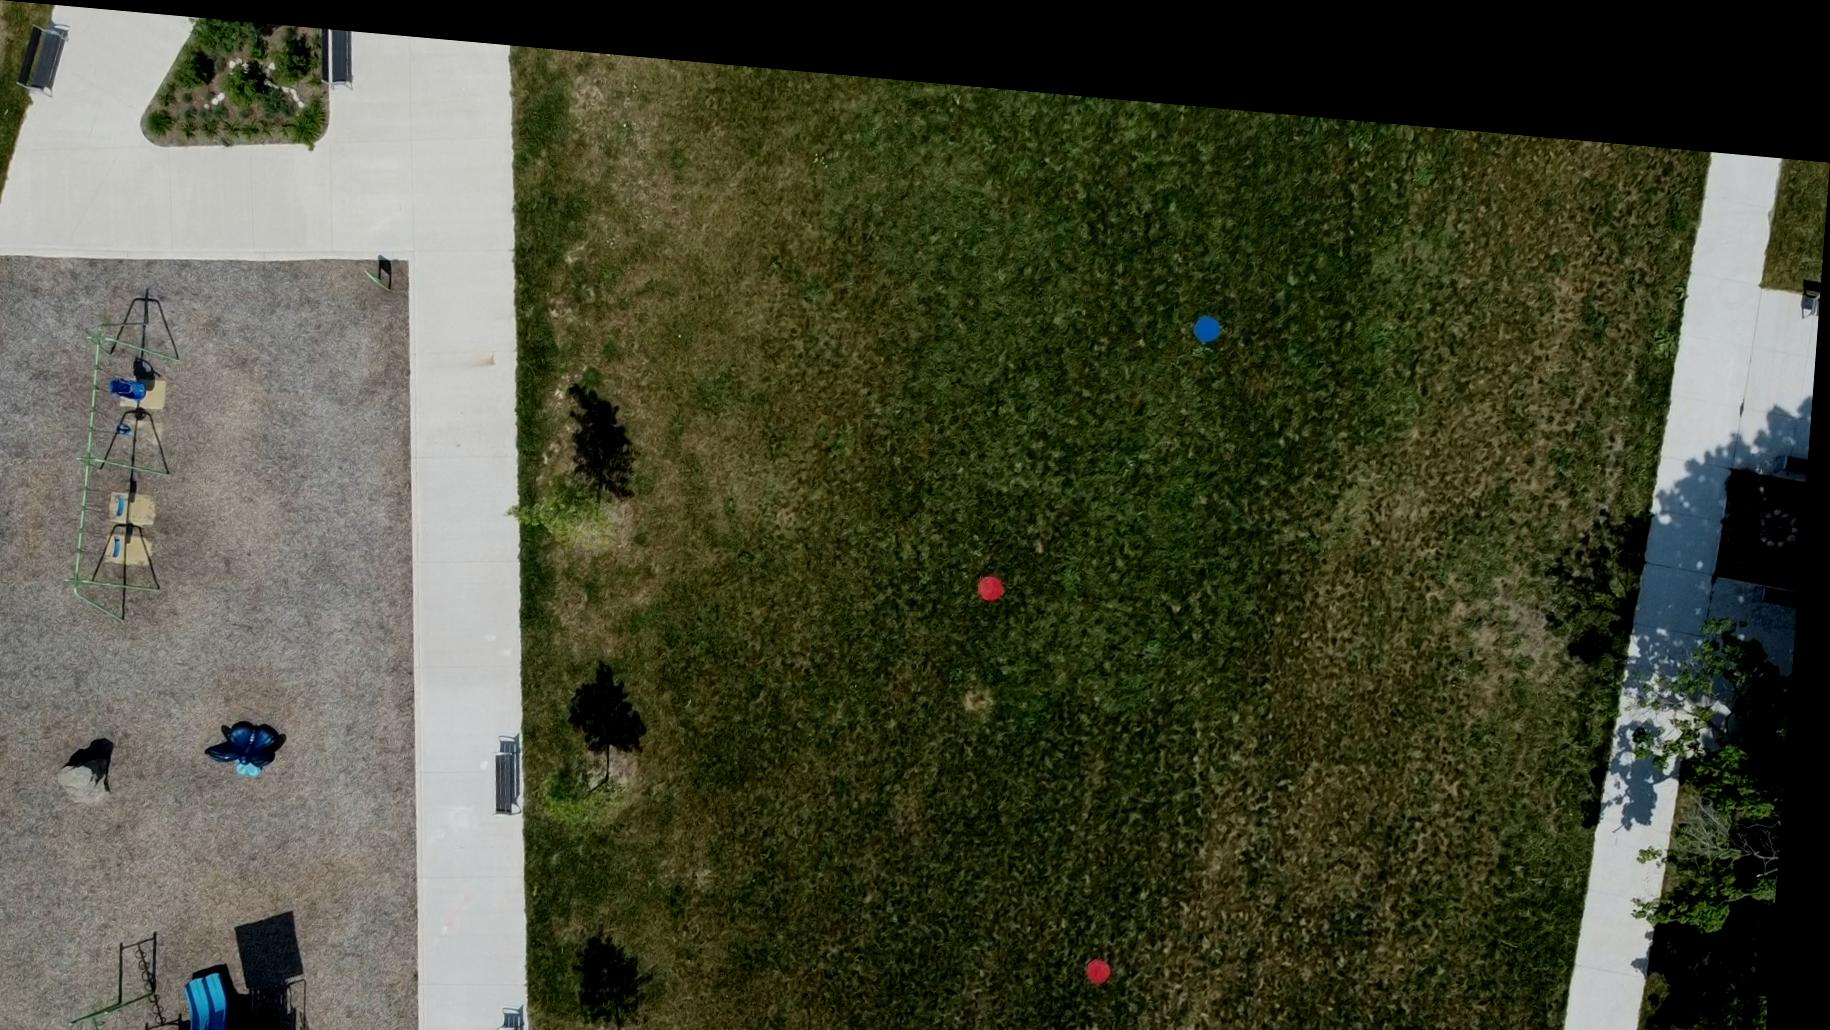Blue: (1197, 292, 1225, 321)
Red: (984, 556, 1013, 585), (1099, 934, 1126, 963)
